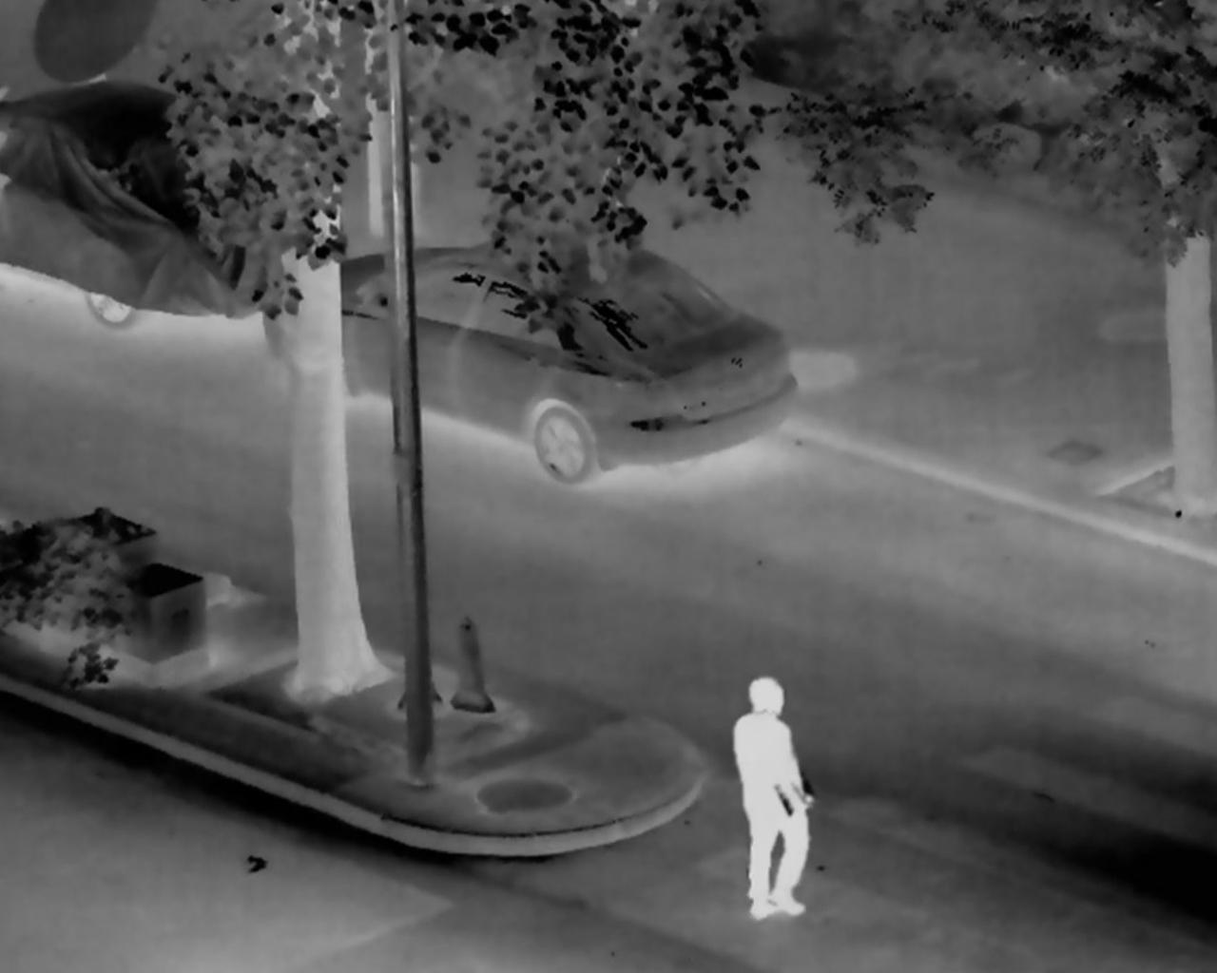person: (728, 675, 812, 918)
